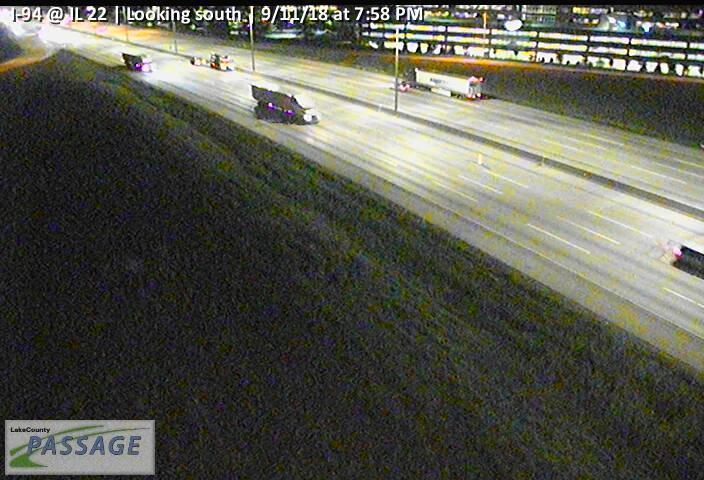Truck: (251, 82, 320, 125), (410, 67, 484, 99), (122, 51, 155, 73)
